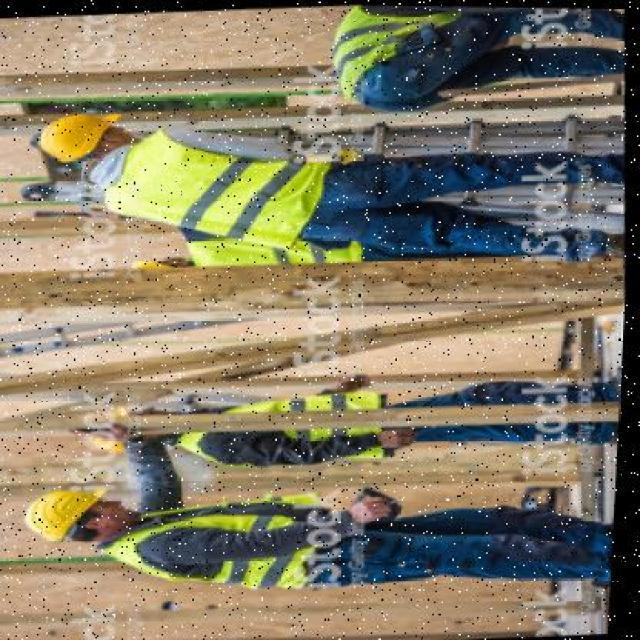helmet: (23, 480, 116, 538), (37, 111, 116, 164)
vest: (100, 118, 332, 252), (111, 488, 335, 594)
